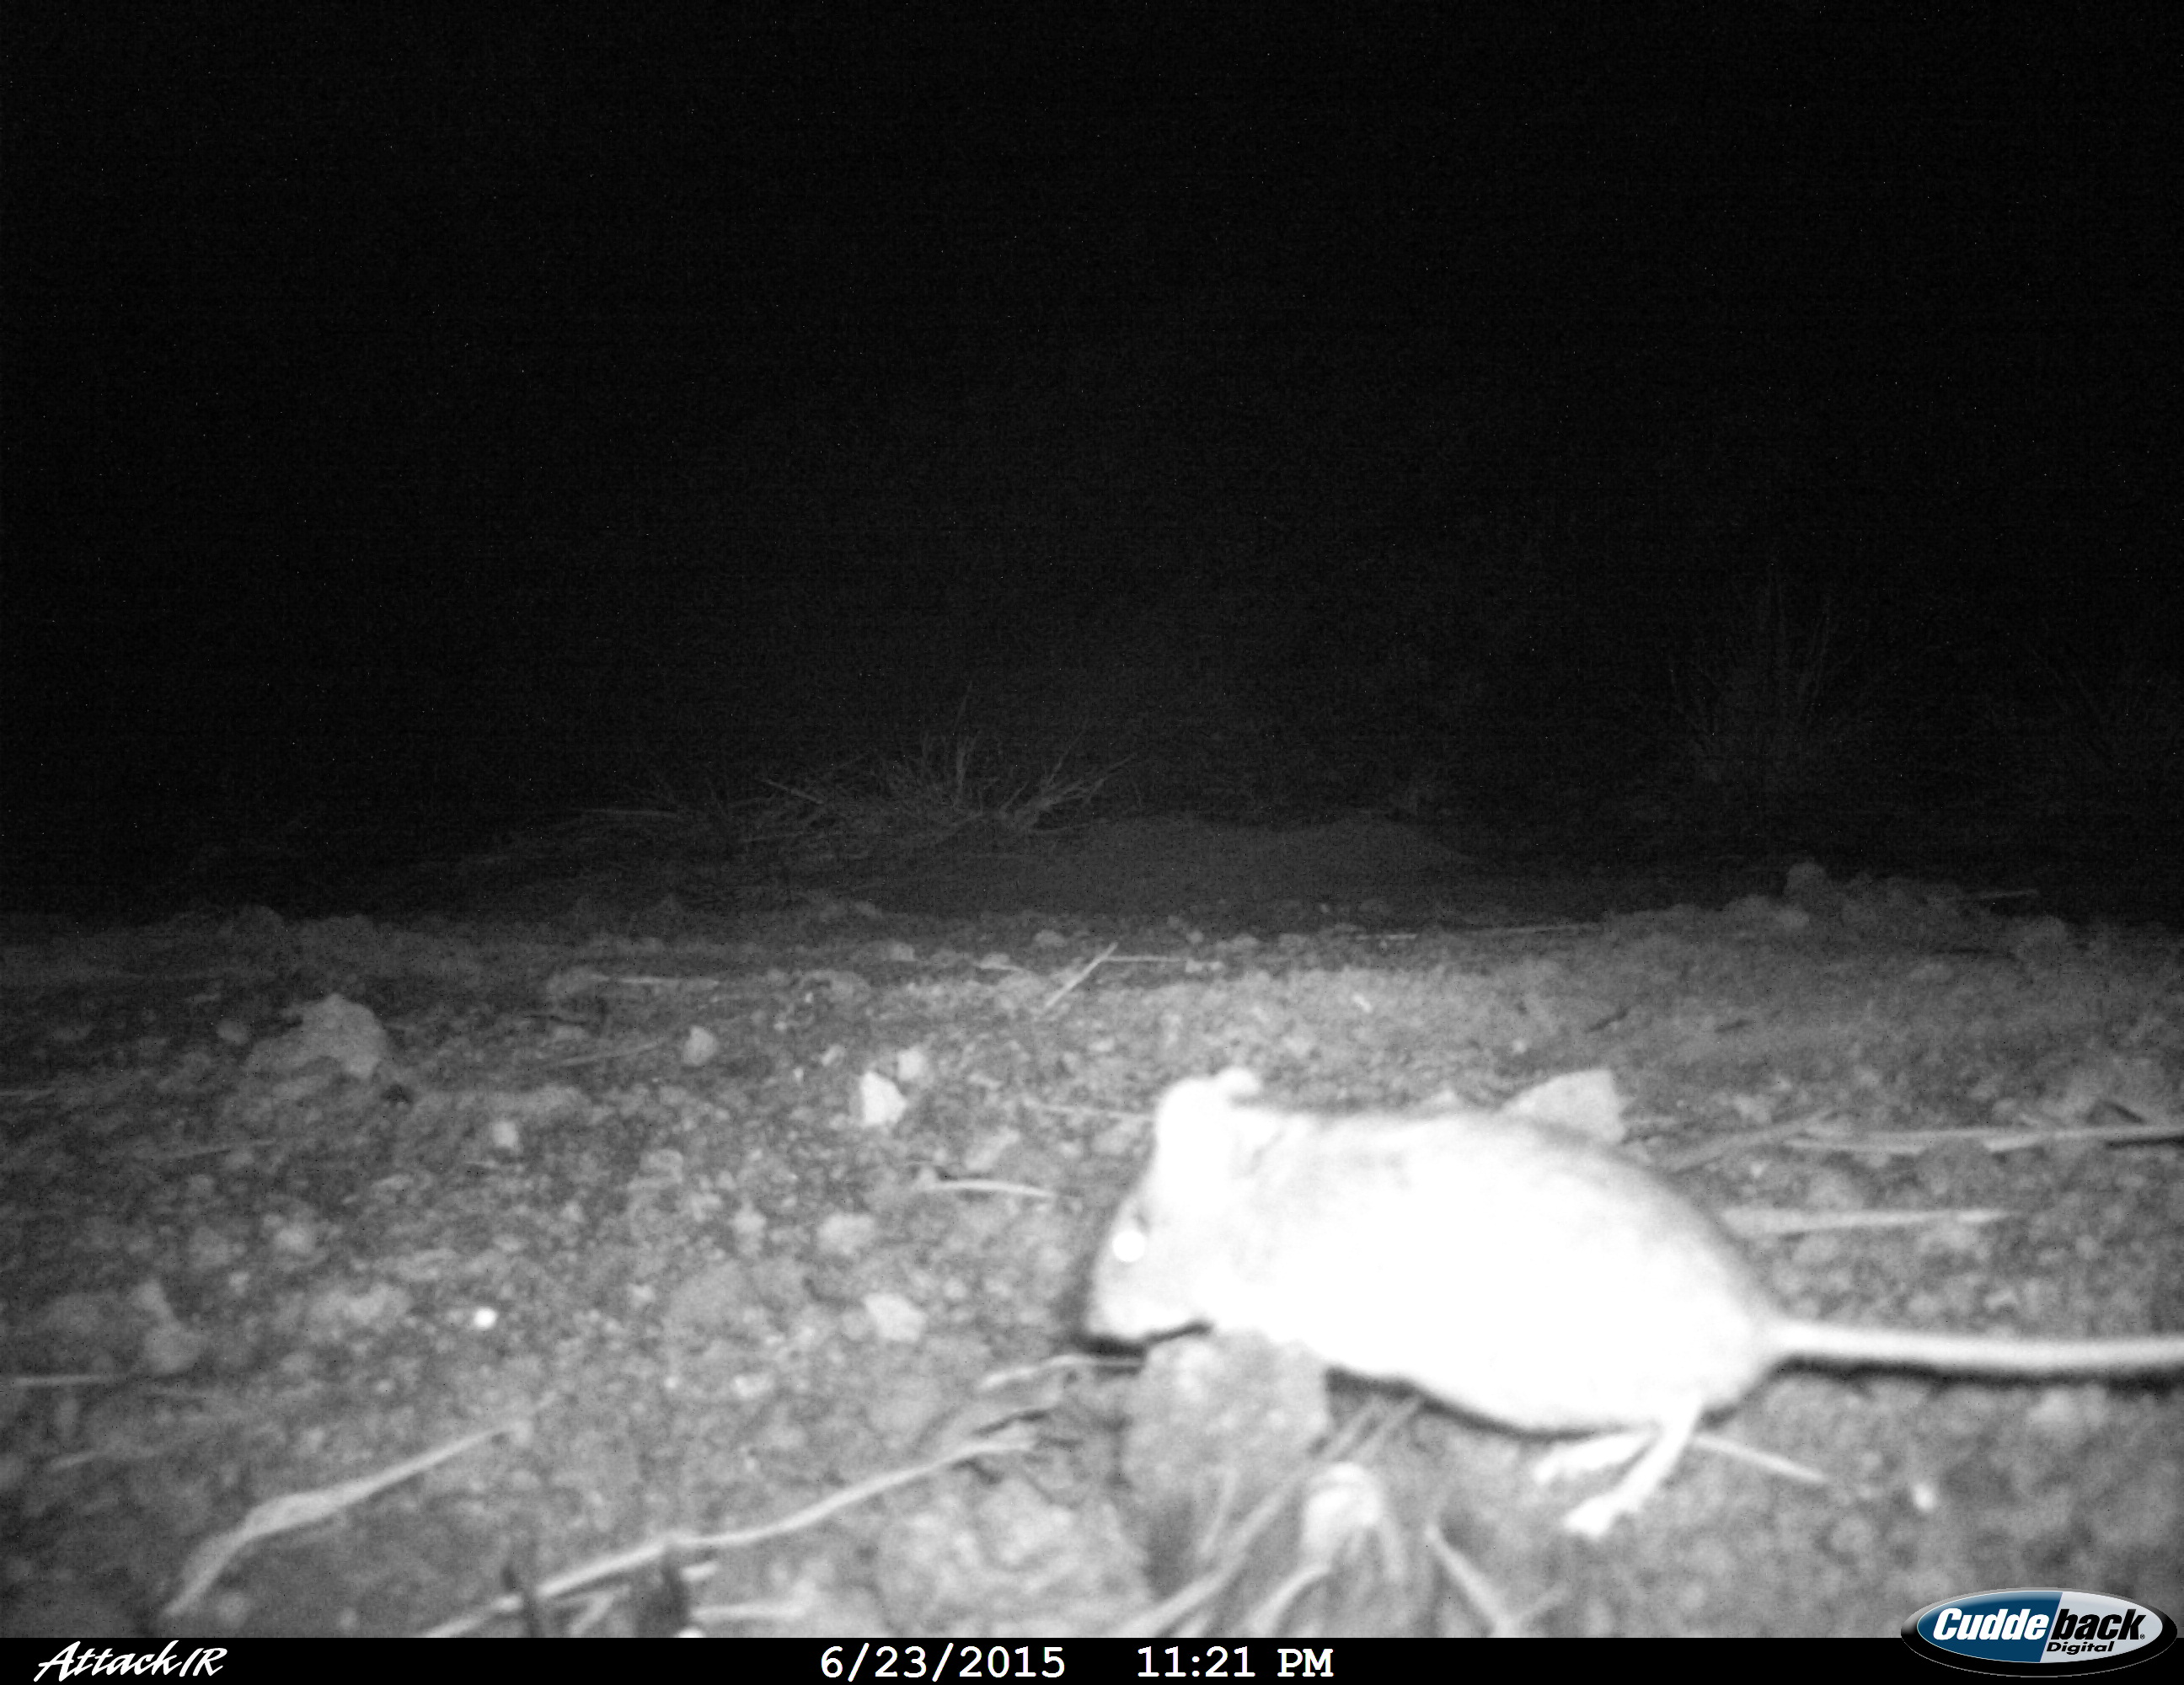Rodent: (1067, 1058, 2179, 1529)
